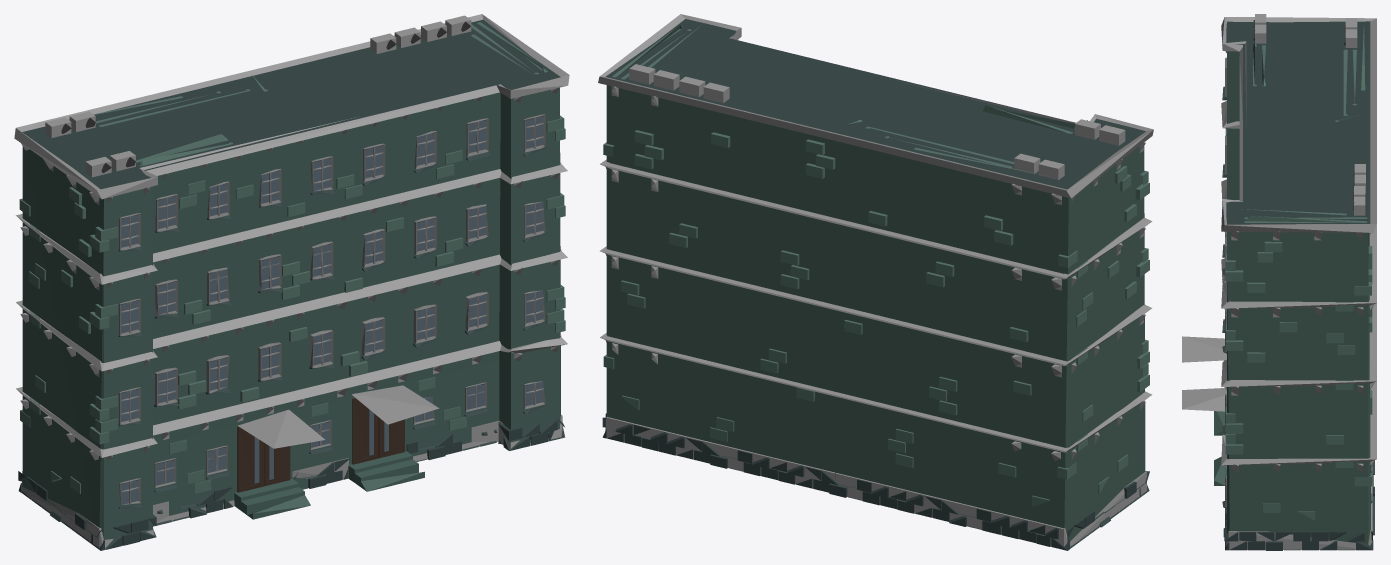
File: 4Story_Wide_2Doors.glb
3 renders of one model, left to right at view 1: azimuth 30°, elevation 25°; view 2: azimuth 150°, elevation 25°; view 3: azimuth 270°, elevation 25°, orthographic. The views are drawn at different scales.
Parts seen in each view (by area): view 1: 4Story_Wide_2Doors_Mat; view 2: 4Story_Wide_2Doors_Mat; view 3: 4Story_Wide_2Doors_Mat.
Part boxes in pixels (bbox=[...]): 4Story_Wide_2Doors_Mat: bbox=[14, 14, 569, 550]; 4Story_Wide_2Doors_Mat: bbox=[598, 14, 1153, 550]; 4Story_Wide_2Doors_Mat: bbox=[1182, 14, 1376, 550].
Bounding box in the file's own units: 6.83 × 5.13 × 2.7.
